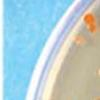orange: (81, 12, 98, 27), (70, 33, 87, 46), (85, 22, 98, 34), (94, 67, 100, 79), (90, 94, 100, 100)
